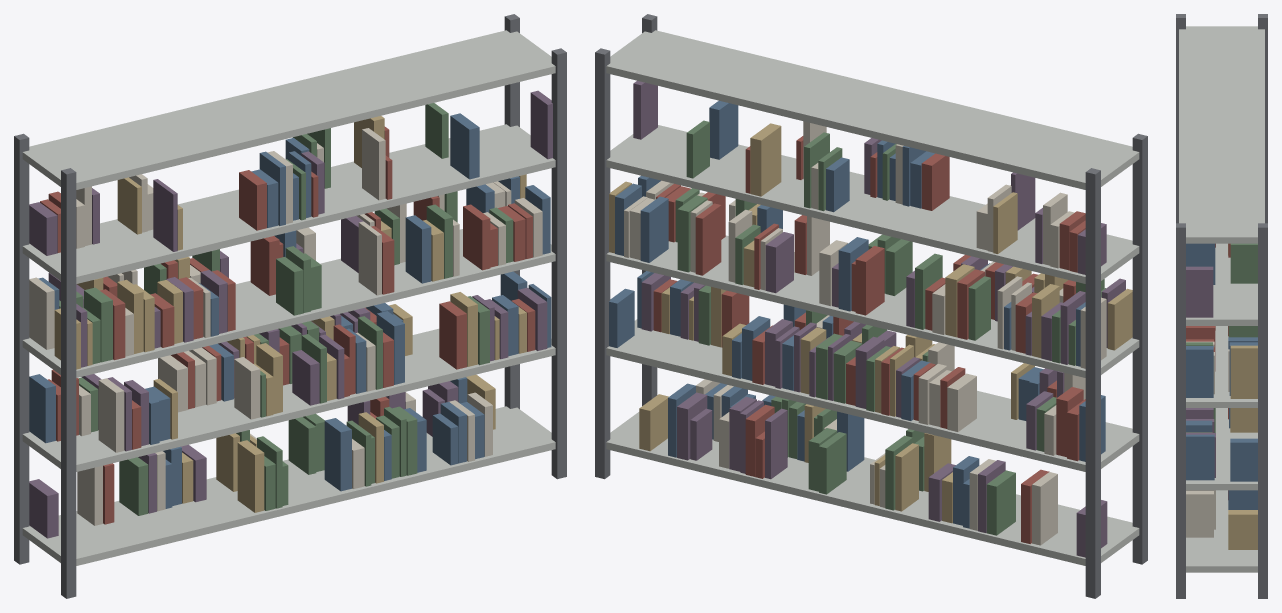
Rendered from mov_37cf10ca03.gltf.
The picture shows the model from 3 angles, left to right: view 1: azimuth 30°, elevation 25°; view 2: azimuth 150°, elevation 25°; view 3: azimuth 270°, elevation 25°; orthographic projection. The views are drawn at different scales.
Parts seen in each view (by area): view 1: mov_37cf10ca03; view 2: mov_37cf10ca03; view 3: mov_37cf10ca03.
Boxes of the visible parts, x1,y1,x2,y2 form: mov_37cf10ca03: [14, 14, 566, 598]; mov_37cf10ca03: [595, 14, 1147, 598]; mov_37cf10ca03: [1176, 14, 1267, 598].
Size of the model in its own units: 2.59 by 2.1 by 0.47.
